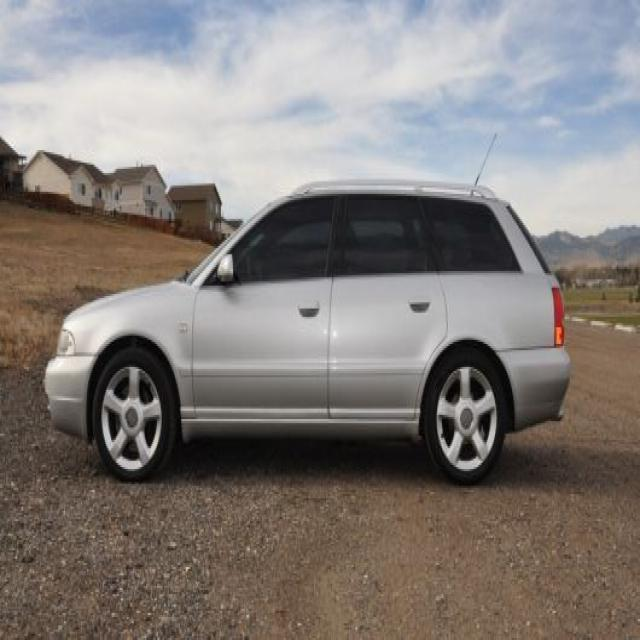car: (43, 136, 573, 484)
